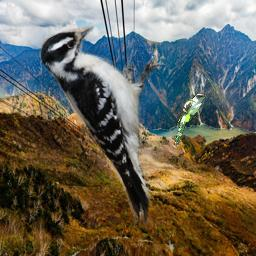Cuckoo: (174, 93, 209, 146)
Woodpecker: (39, 26, 165, 224)
